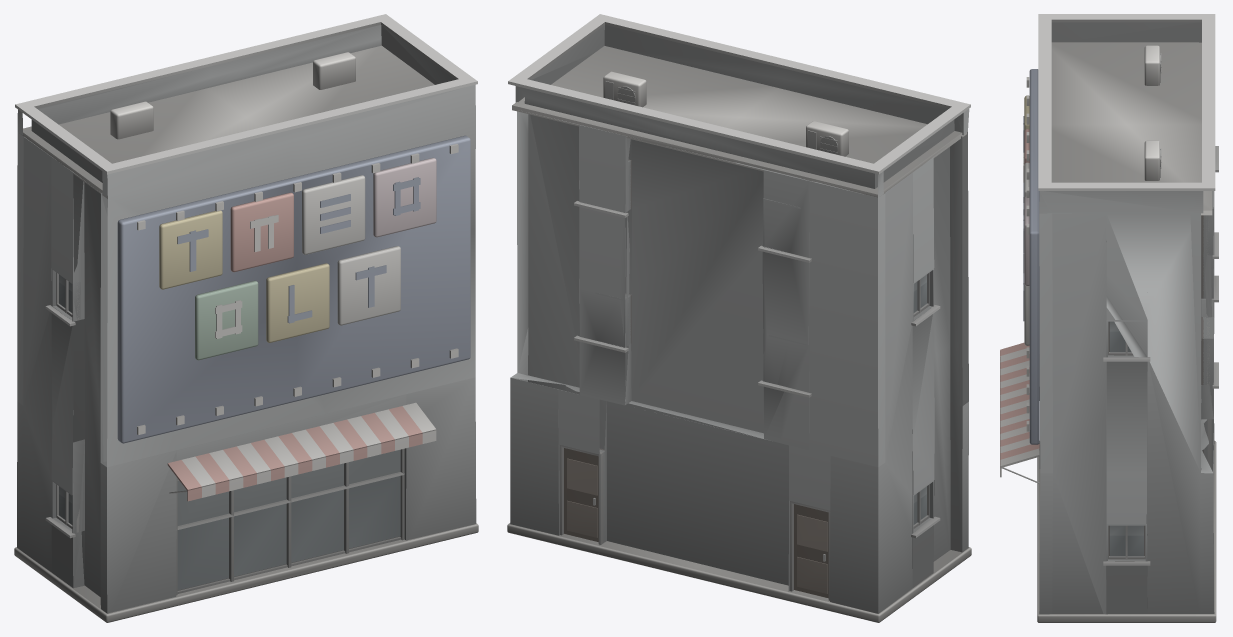
Rendered from parlour.glb.
3 renders of one model, left to right at view 1: azimuth 30°, elevation 25°; view 2: azimuth 150°, elevation 25°; view 3: azimuth 270°, elevation 25°, orthographic. The views are drawn at different scales.
Parts seen in each view (by area): view 1: parlour.001; view 2: parlour.001; view 3: parlour.001.
Part boxes in pixels (x1,y1,x2,y2): parlour.001: [14, 14, 478, 622]; parlour.001: [507, 14, 971, 622]; parlour.001: [1000, 14, 1218, 622].
Size of the model in its own units: 8.2 by 9.38 by 4.28.
